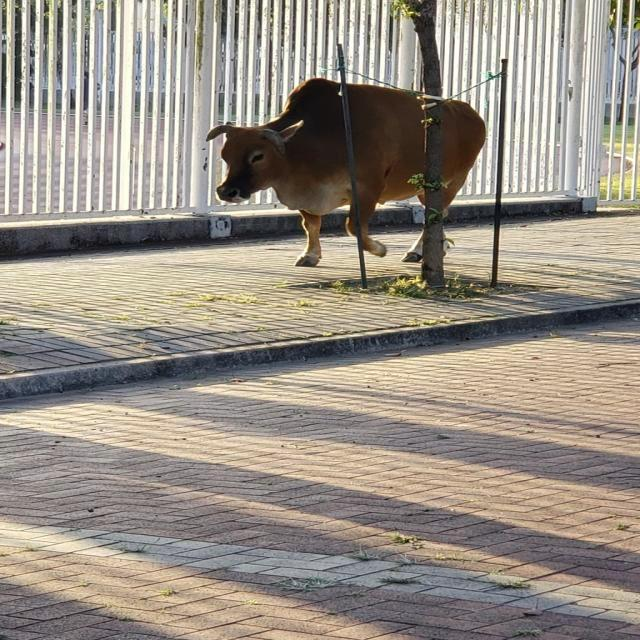cow: (209, 79, 351, 266), (348, 84, 424, 256), (432, 100, 485, 209)
